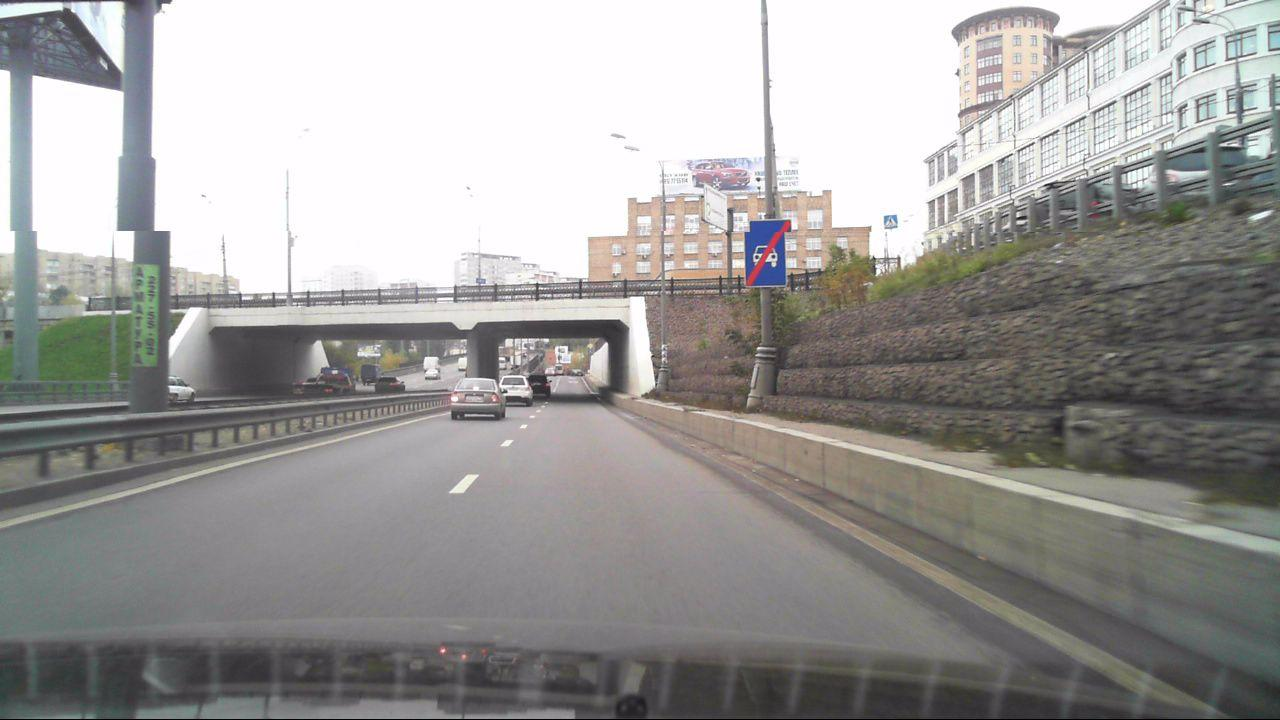5_19_1: (882, 213, 898, 230)
5_4: (744, 220, 791, 289)
